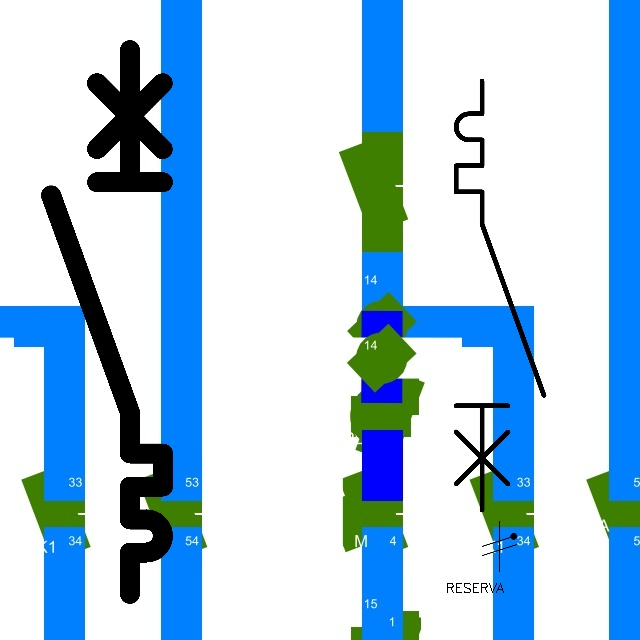interruptor_termomagnetico: (37, 36, 177, 608), (445, 70, 555, 521)
